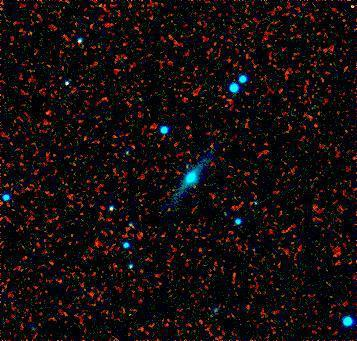star: (336, 0, 357, 22)
